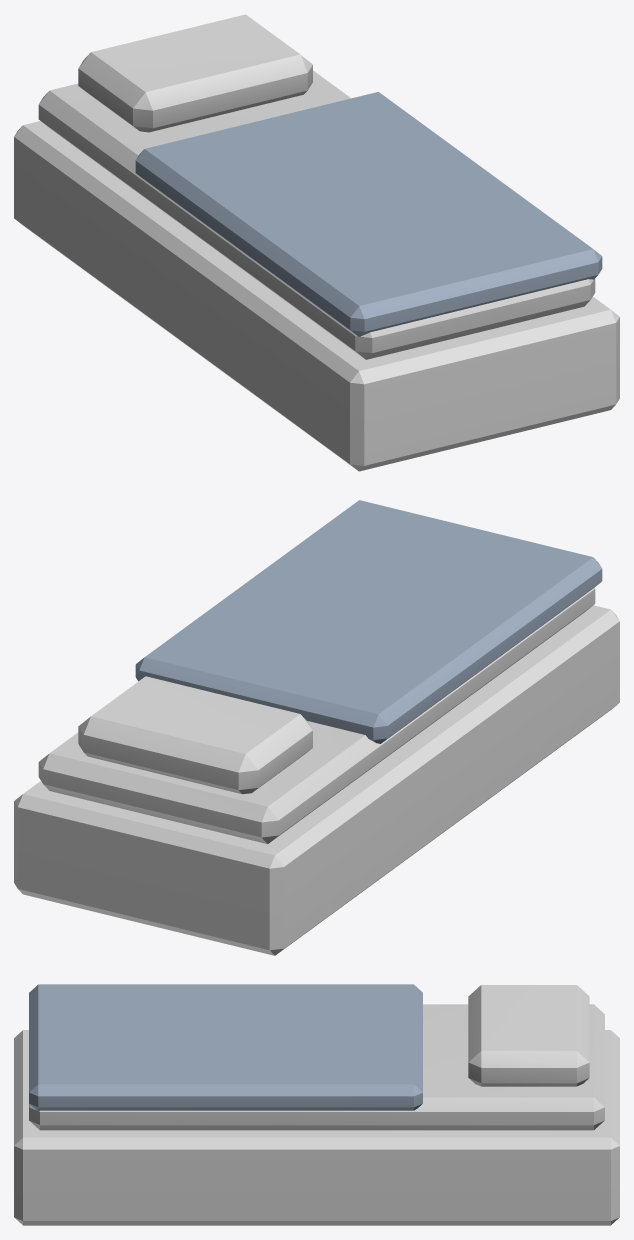
File: bed_apothecary.glb
The picture shows the model from 3 angles, top to bottom: view 1: azimuth 30°, elevation 25°; view 2: azimuth 150°, elevation 25°; view 3: azimuth 270°, elevation 25°; orthographic projection. The views are drawn at different scales.
Visible parts, largest first — view 1: bed_blanket; view 2: bed_blanket; view 3: bed_blanket.
Part boxes in pixels (x1,y1,x2,y2): bed_blanket: (14,14,619,471); bed_blanket: (14,500,619,955); bed_blanket: (14,984,619,1225).
Bounding box in the file's own units: 0.9 × 0.56 × 2.
